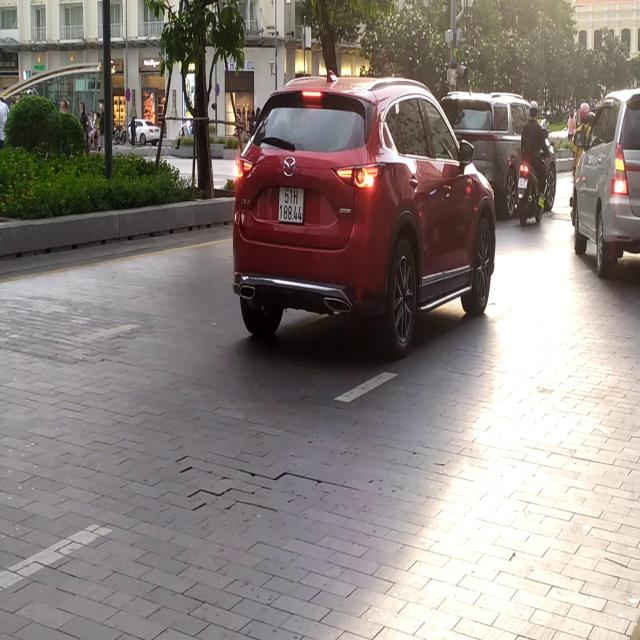bien_trang: (277, 185, 304, 225)
